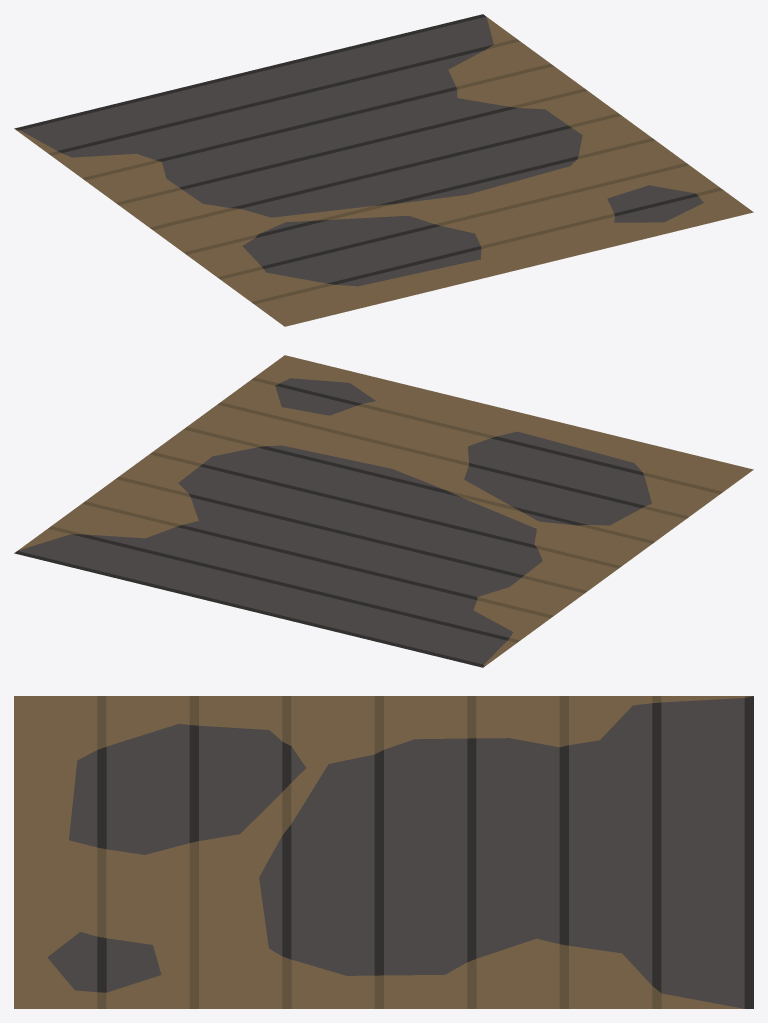
The model's file is AI_Env_Floor_02_Burnt_02.fbx.
3 renders of one model, top to bottom at view 1: azimuth 30°, elevation 25°; view 2: azimuth 150°, elevation 25°; view 3: azimuth 270°, elevation 25°, orthographic. The views are drawn at different scales.
Parts seen in each view (by area): view 1: AI_Env_Floor_02_Burnt_02; view 2: AI_Env_Floor_02_Burnt_02; view 3: AI_Env_Floor_02_Burnt_02.
Boxes of the visible parts, <box> form: AI_Env_Floor_02_Burnt_02: <box>14,14,753,326</box>; AI_Env_Floor_02_Burnt_02: <box>14,355,753,667</box>; AI_Env_Floor_02_Burnt_02: <box>14,696,753,1008</box>.
Bounding box in the file's own units: 5 × 0 × 5.
